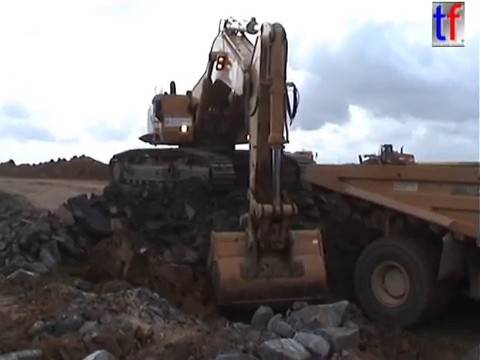excavator: (103, 13, 334, 320)
truck: (298, 160, 480, 334)
wheel loader: (345, 142, 418, 174)
